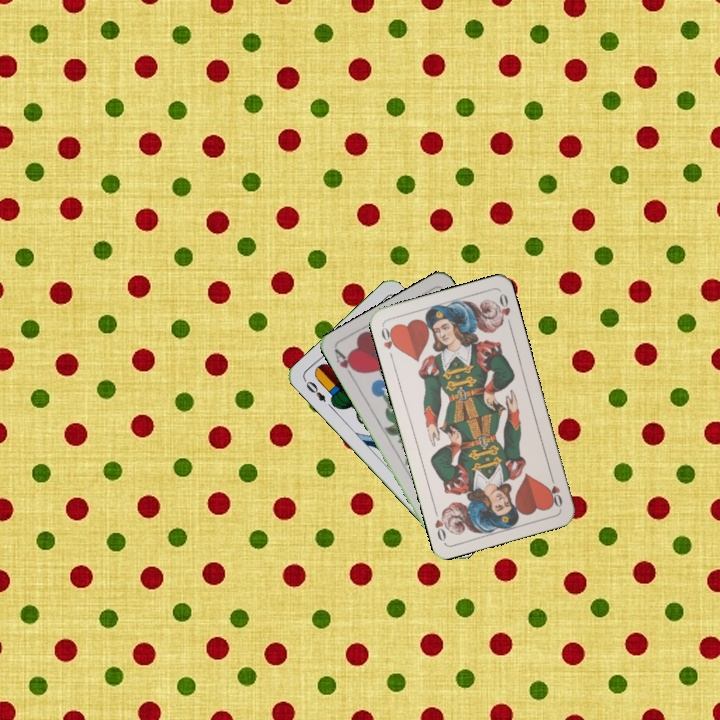EO: (300, 375, 328, 405)
HA: (331, 346, 360, 383)
HO: (377, 322, 400, 362), (544, 471, 565, 510)
